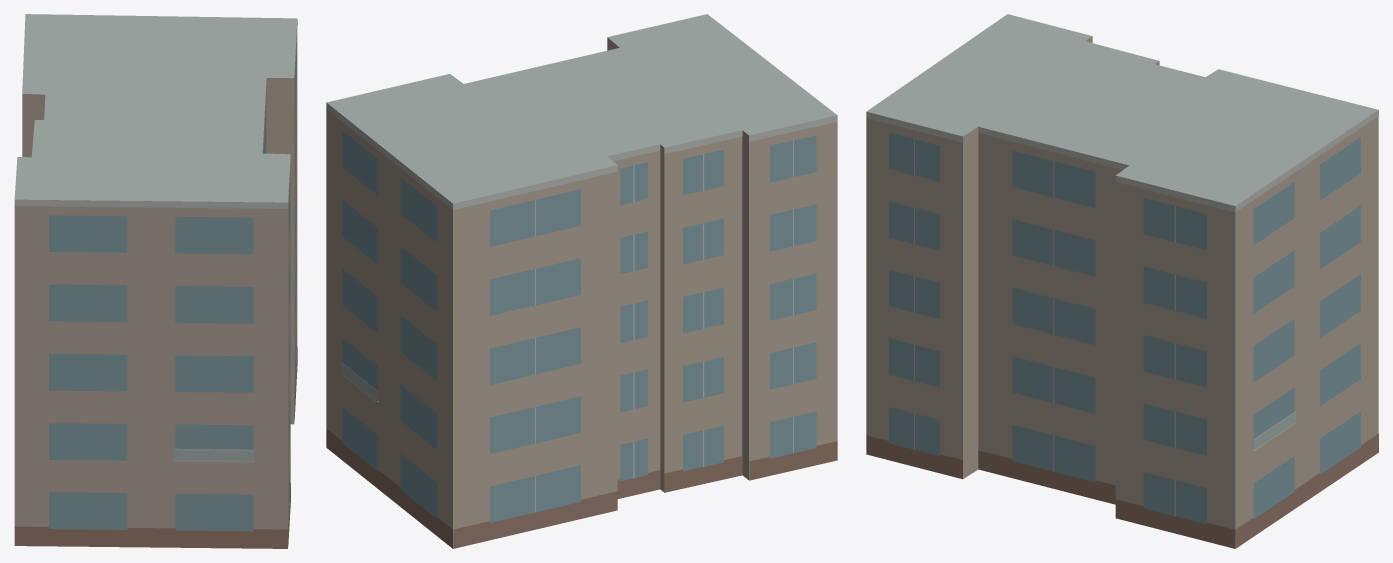
Rendered from survey-upis-32680204.glb.
3 renders of one model, left to right at view 1: azimuth 30°, elevation 25°; view 2: azimuth 150°, elevation 25°; view 3: azimuth 270°, elevation 25°, orthographic.
Parts seen in each view (by area): view 1: survey-upis-32680204.tmp; view 2: survey-upis-32680204.tmp; view 3: survey-upis-32680204.tmp.
Boxes of the visible parts, x1,y1,x2,y2 form: survey-upis-32680204.tmp: (14, 14, 297, 548); survey-upis-32680204.tmp: (326, 14, 837, 548); survey-upis-32680204.tmp: (866, 14, 1378, 548).
Size of the model in its own units: 15.76 by 13.1 by 17.76.
